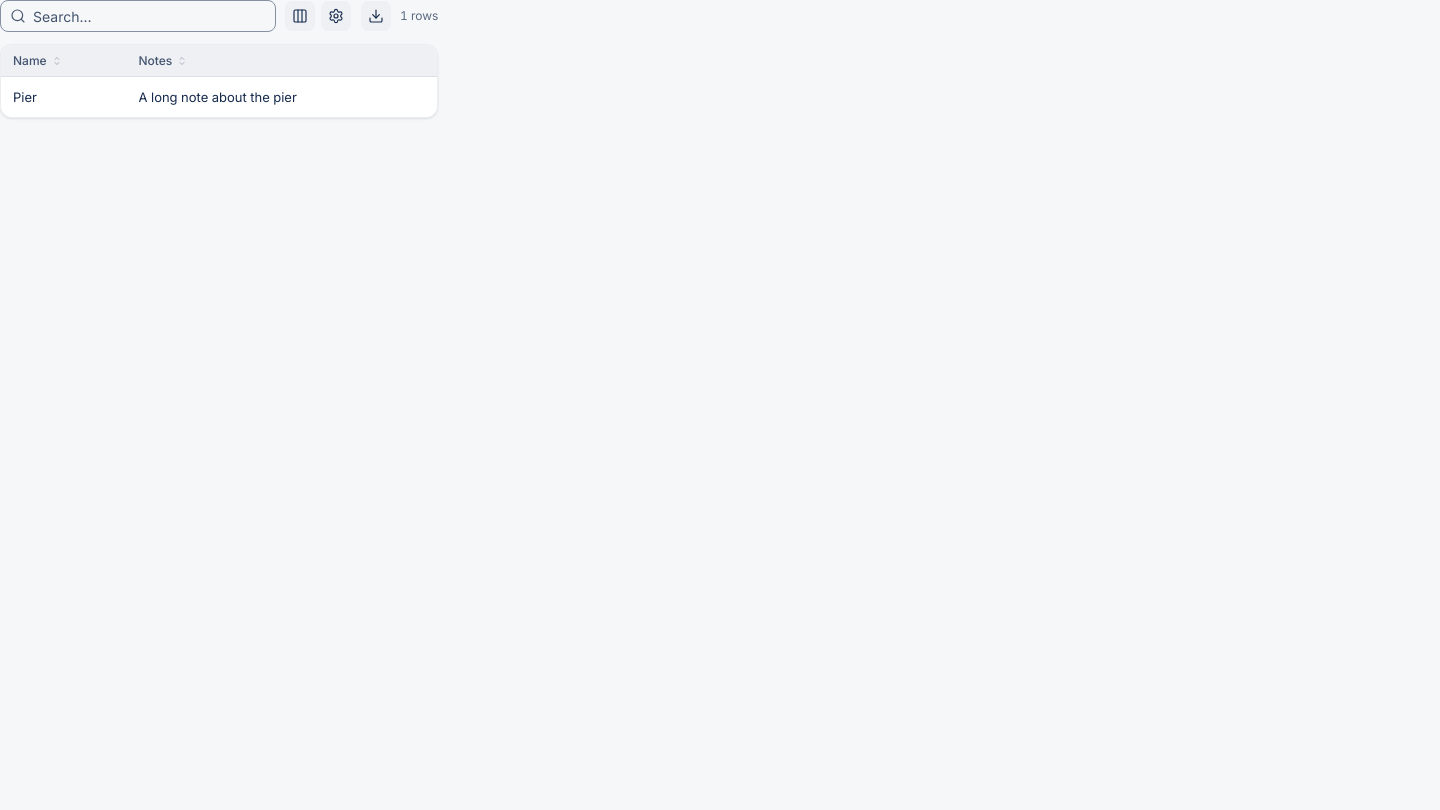
Test: table display options › reset columns › is disabled while the columns are at their defaults
Step 1. Click the button named "view options" → (336, 16), box [320,0,352,32]
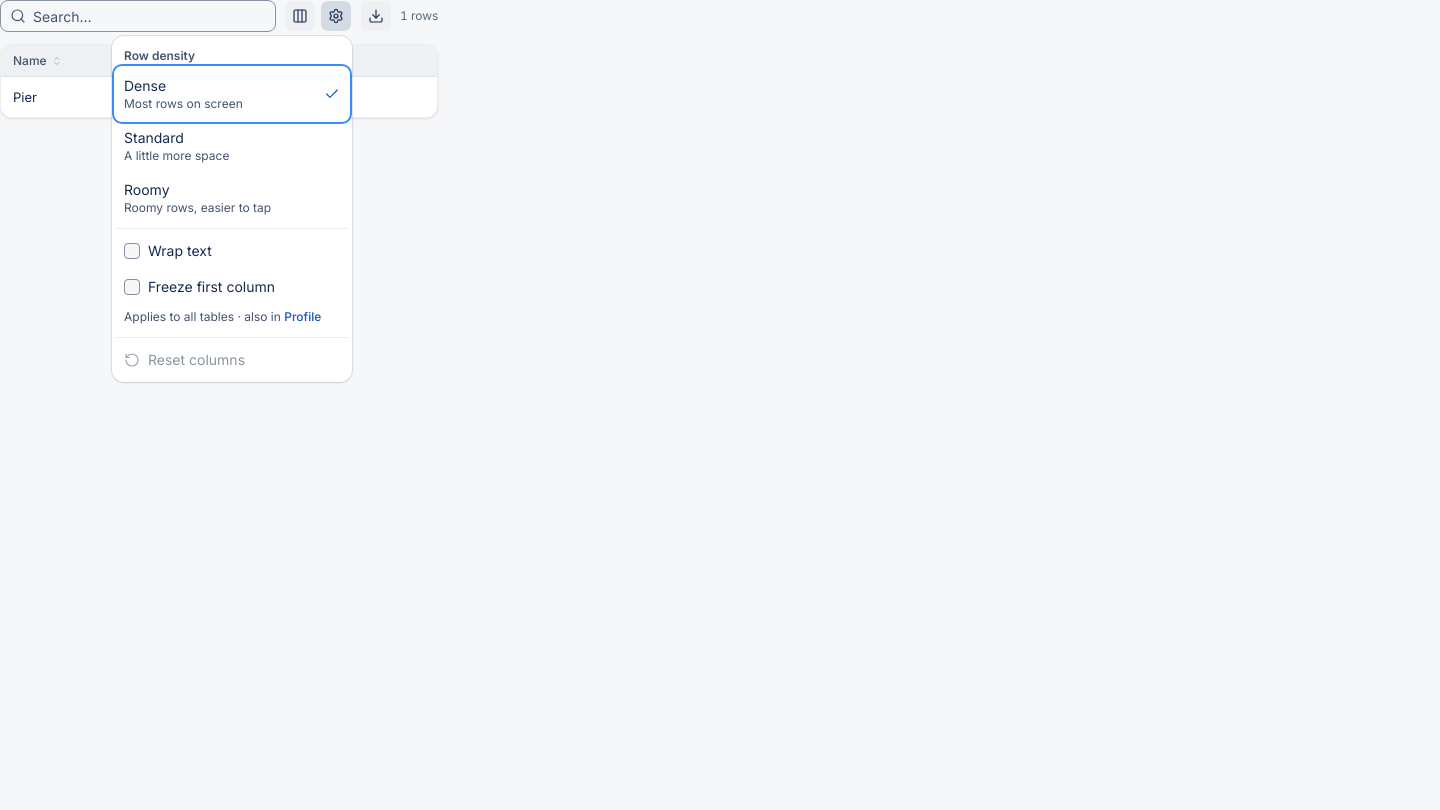
Expected: the button "Reset columns" is disabled, [116,342,348,378]
